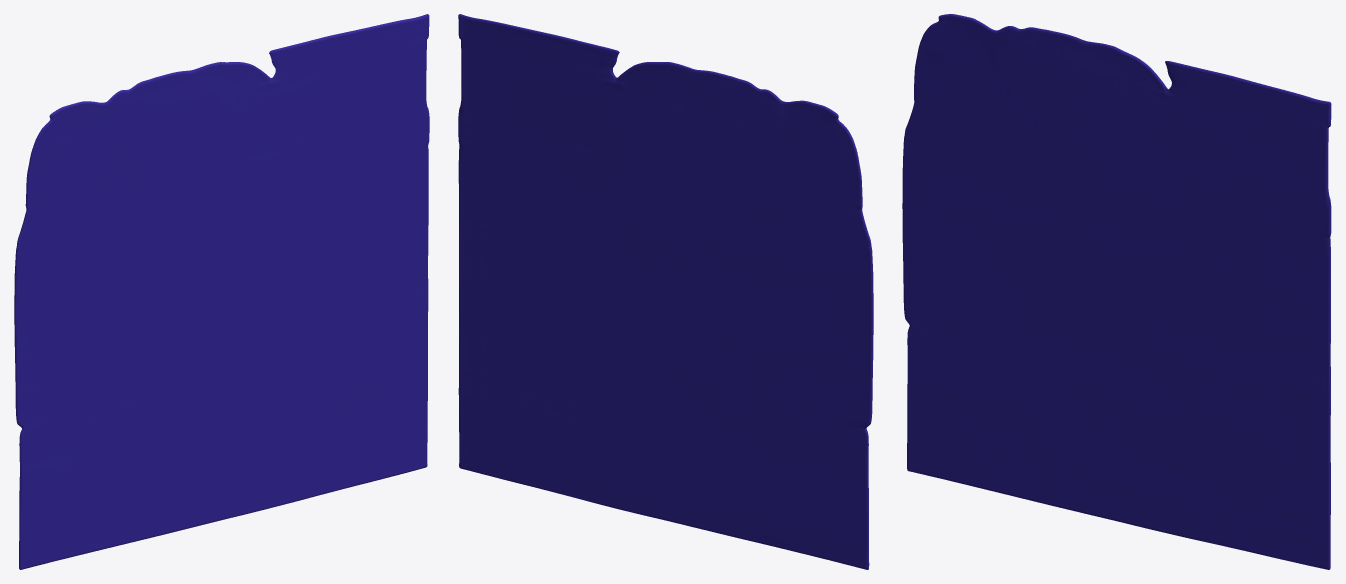
File: iter_4.glb
3 renders of one model, left to right at view 1: azimuth 30°, elevation 25°; view 2: azimuth 150°, elevation 25°; view 3: azimuth 330°, elevation 25°, orthographic. The views are drawn at different scales.
Parts seen in each view (by area): view 1: textured_mesh; view 2: textured_mesh; view 3: textured_mesh.
Boxes of the visible parts, x1,y1,x2,y2 form: textured_mesh: (14,14,429,569); textured_mesh: (458,14,873,569); textured_mesh: (902,14,1331,569).
Size of the model in its own units: 1.88 by 1.99 by 0.021.
